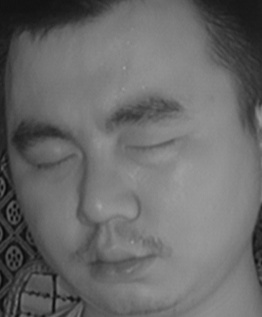blink: (124, 129, 180, 166), (29, 143, 78, 181)
mouth: (80, 233, 157, 289)
